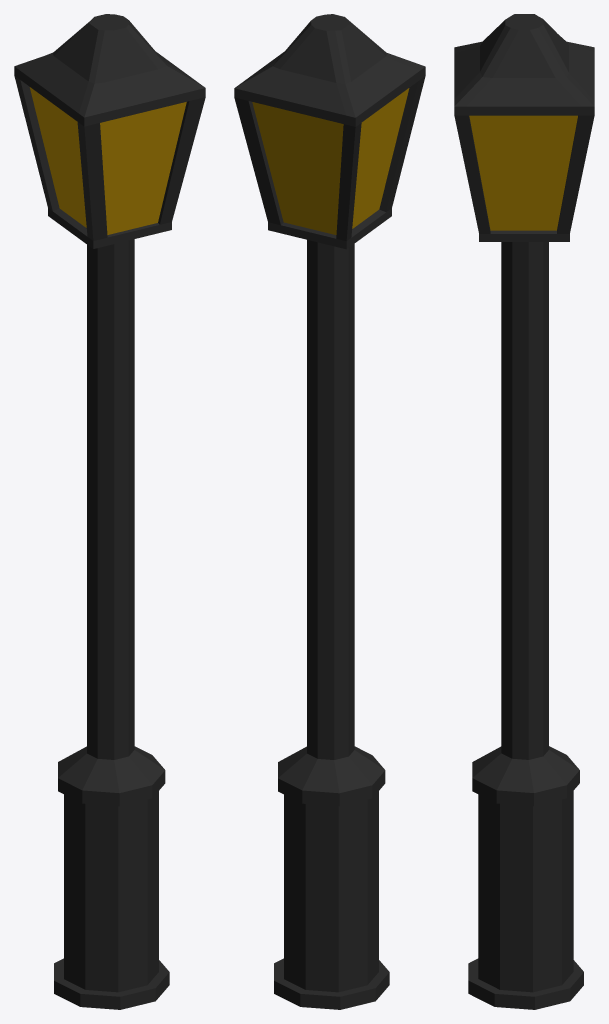
The model's file is Lamppost.fbx.
The picture shows the model from 3 angles, left to right: view 1: azimuth 30°, elevation 25°; view 2: azimuth 150°, elevation 25°; view 3: azimuth 270°, elevation 25°; orthographic projection.
Parts seen in each view (by area): view 1: Lamppost; view 2: Lamppost; view 3: Lamppost.
Part boxes in pixels (left/top/right/bottom): Lamppost: left=14, top=14, right=205, bottom=1009; Lamppost: left=234, top=14, right=425, bottom=1009; Lamppost: left=454, top=14, right=594, bottom=1009.
Bounding box in the file's own units: 134 × 1016 × 134.
